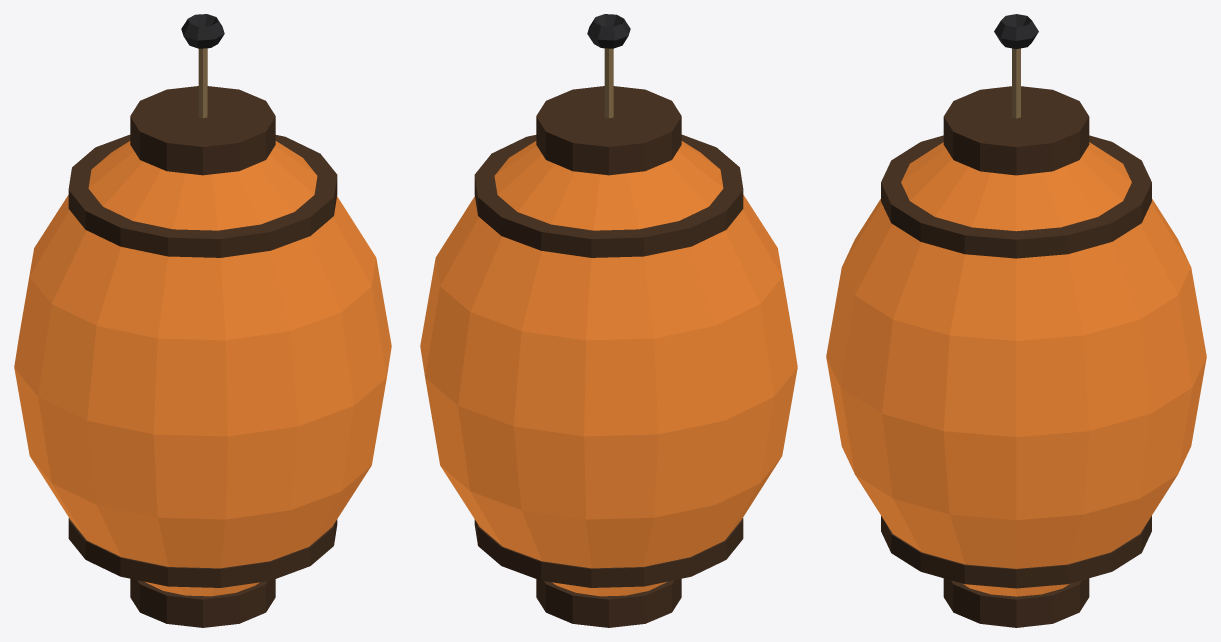
The model's file is lucerna_papirova.glb.
The picture shows the model from 3 angles, left to right: view 1: azimuth 30°, elevation 25°; view 2: azimuth 150°, elevation 25°; view 3: azimuth 270°, elevation 25°; orthographic projection.
Visible parts, largest first — view 1: noc, lucerna_papirova; view 2: noc, lucerna_papirova; view 3: noc, lucerna_papirova.
Part boxes in pixels (box(x1,y1,x2,y2)): noc: box(14, 141, 391, 596); lucerna_papirova: box(68, 14, 337, 627); noc: box(420, 141, 797, 596); lucerna_papirova: box(474, 14, 743, 627); noc: box(826, 142, 1206, 596); lucerna_papirova: box(881, 14, 1151, 627).
Size of the model in its own units: 0.2196 by 0.367 by 0.2196.
2 materials, 2 textured.
